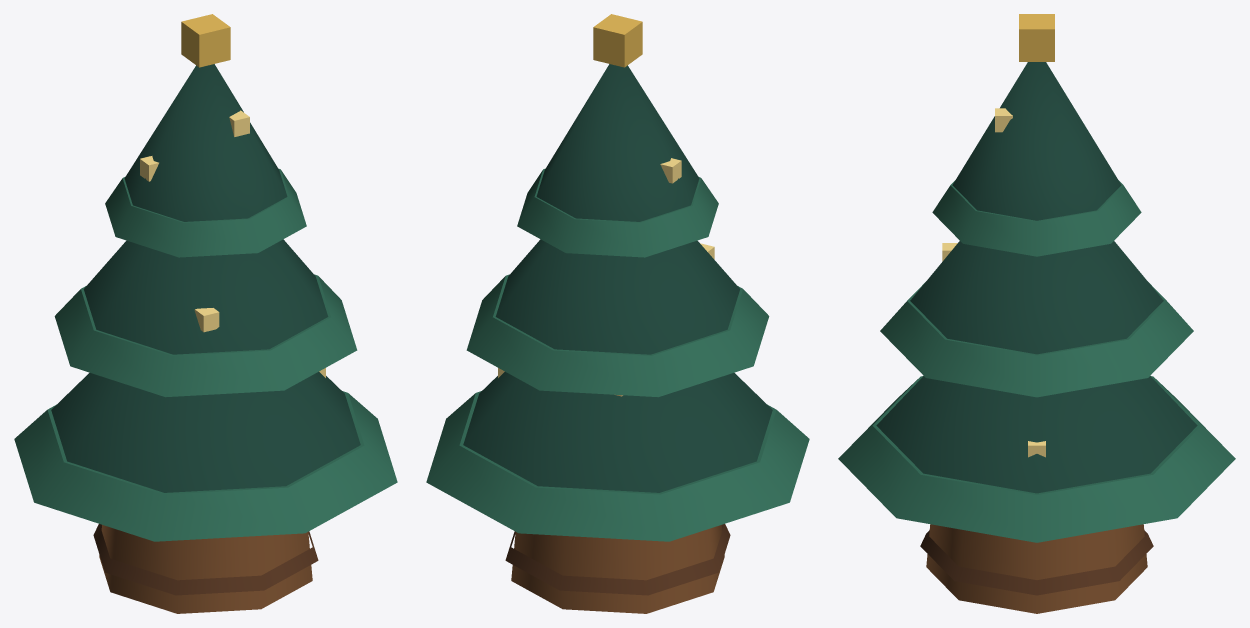
File: prop_fir_tub.glb
The picture shows the model from 3 angles, left to right: view 1: azimuth 30°, elevation 25°; view 2: azimuth 150°, elevation 25°; view 3: azimuth 270°, elevation 25°; orthographic projection.
Parts seen in each view (by area): view 1: prop_fir_tub; view 2: prop_fir_tub; view 3: prop_fir_tub.
Boxes of the visible parts, box(x1,y1,x2,y2) form: prop_fir_tub: box(14, 14, 397, 613); prop_fir_tub: box(426, 14, 809, 613); prop_fir_tub: box(838, 14, 1235, 613).
Bounding box in the file's own units: 1.98 × 2.99 × 1.98.
Materials: 1 (1 with a texture image).
